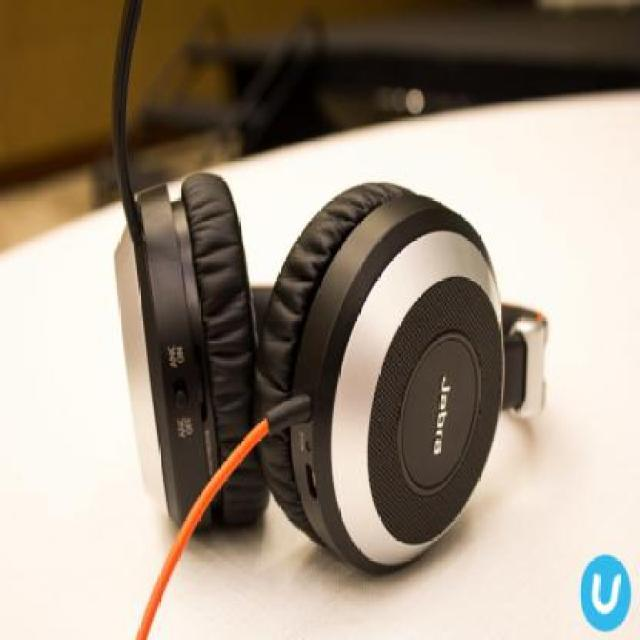earphone: (54, 55, 524, 560)
